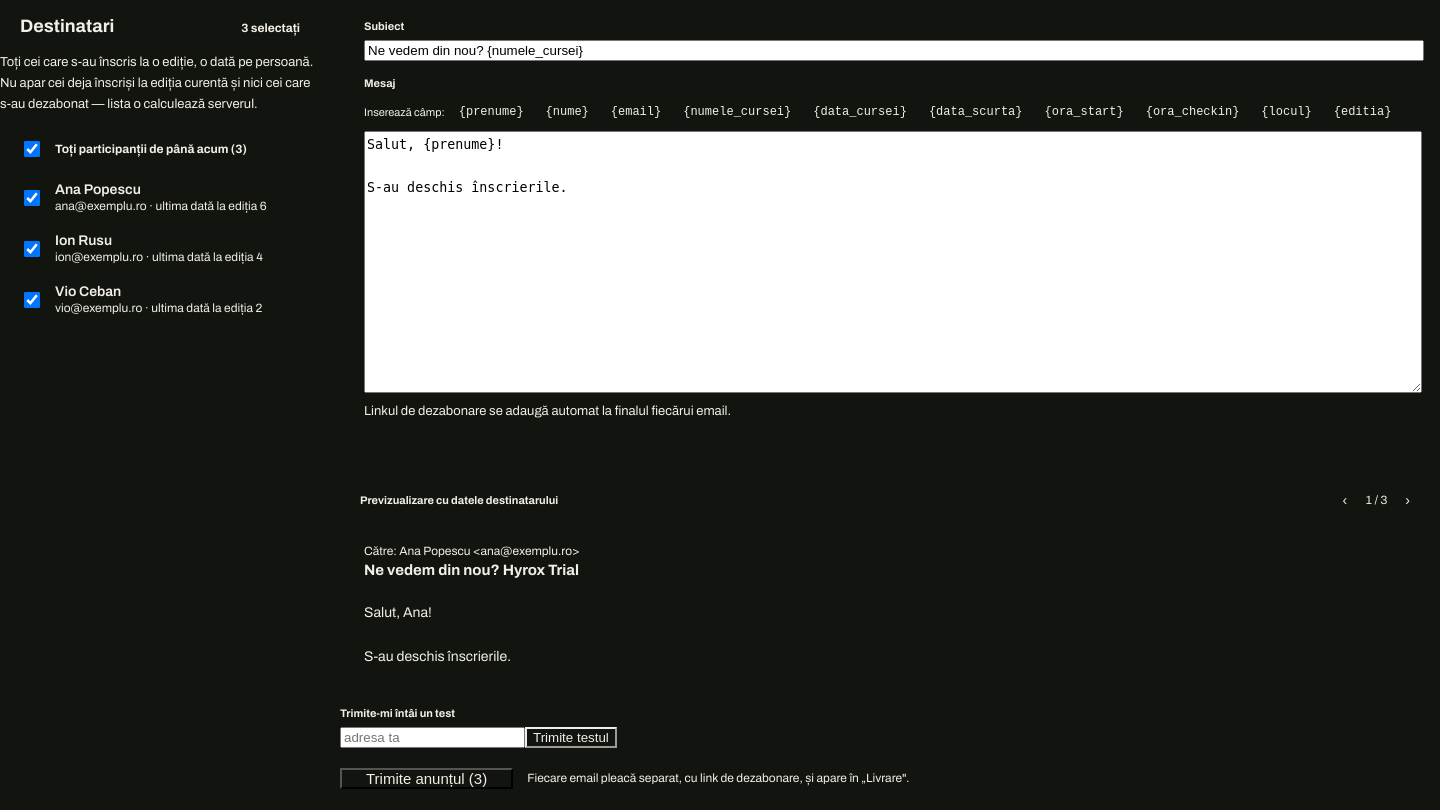
Scenario: AnuntIstoric — trimiterea › cere confirmare, cu numărul exact, înainte să trimită
This screenshot has width=1440, height=810.
Expected: the text "Ana Popescu" is shown, [55,182,141,197]
Expected: the field showing "Ne vedem din nou? {numele_cursei}" is shown, [364,40,1424,61]
Click the button "Trimite anunțul (3)" at (427, 778), box [340,768,513,789]
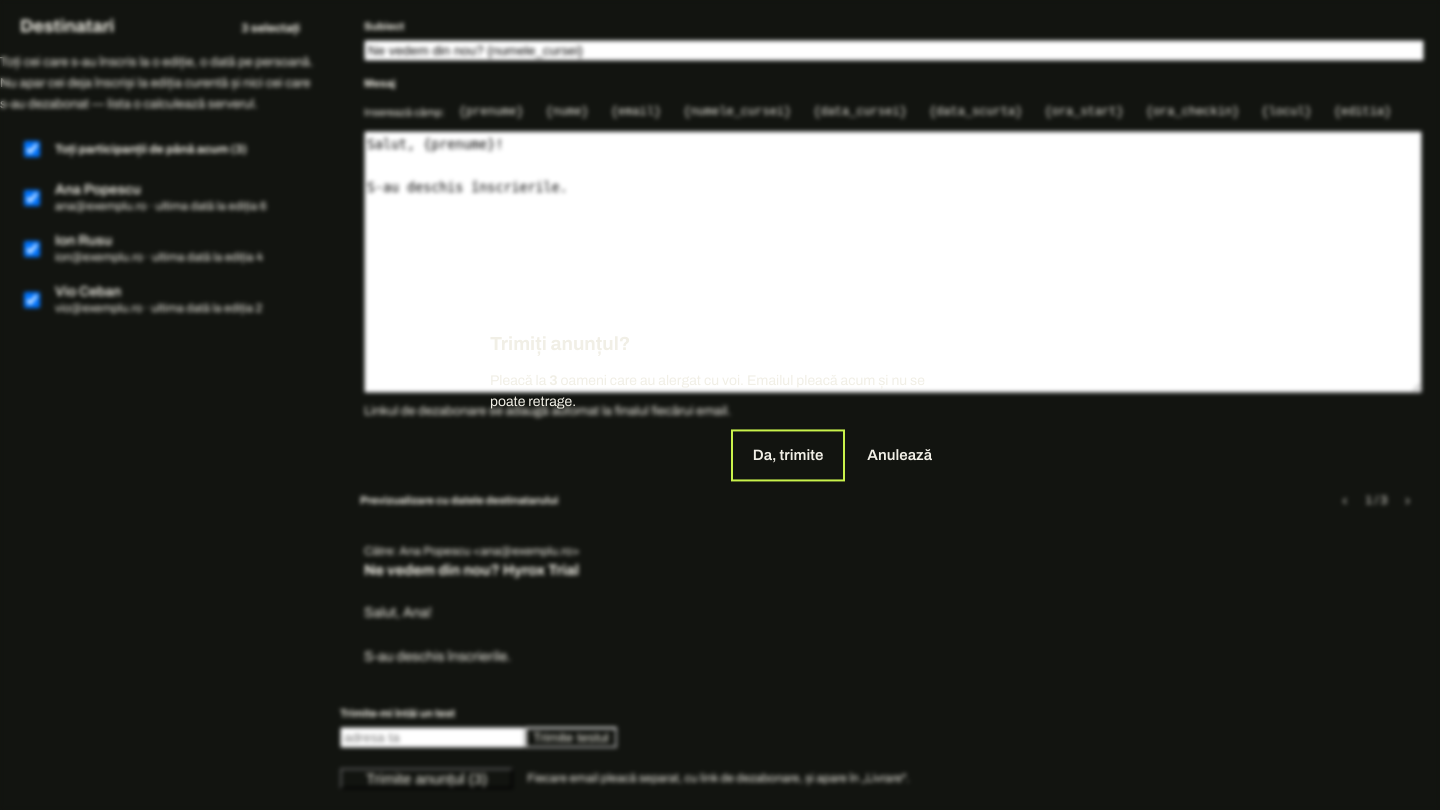
Expected: the dialog shows "3", [549,373,558,388]
